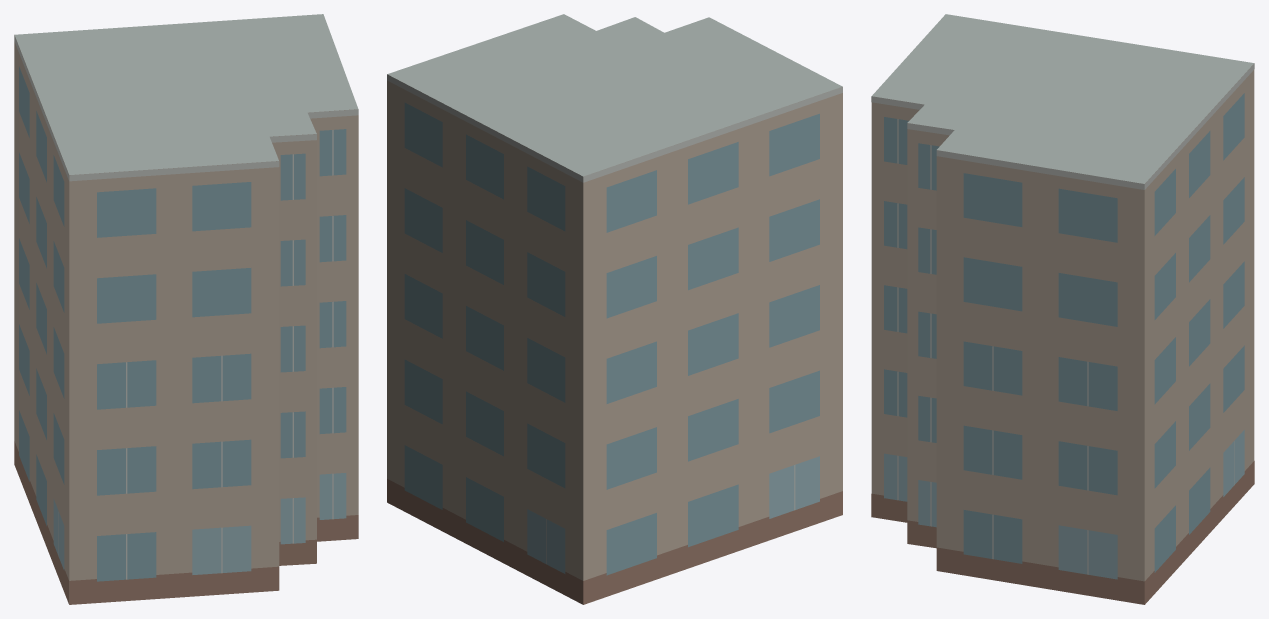
Rendered from survey-upis-32528199.glb.
3 renders of one model, left to right at view 1: azimuth 30°, elevation 25°; view 2: azimuth 150°, elevation 25°; view 3: azimuth 270°, elevation 25°, orthographic. The views are drawn at different scales.
Visible parts, largest first — view 1: survey-upis-32528199.tmp; view 2: survey-upis-32528199.tmp; view 3: survey-upis-32528199.tmp.
Part boxes in pixels (x1,y1,x2,y2): survey-upis-32528199.tmp: [14, 14, 358, 604]; survey-upis-32528199.tmp: [387, 14, 842, 604]; survey-upis-32528199.tmp: [871, 14, 1254, 604].
Size of the model in its own units: 14.64 by 16.89 by 13.94.
